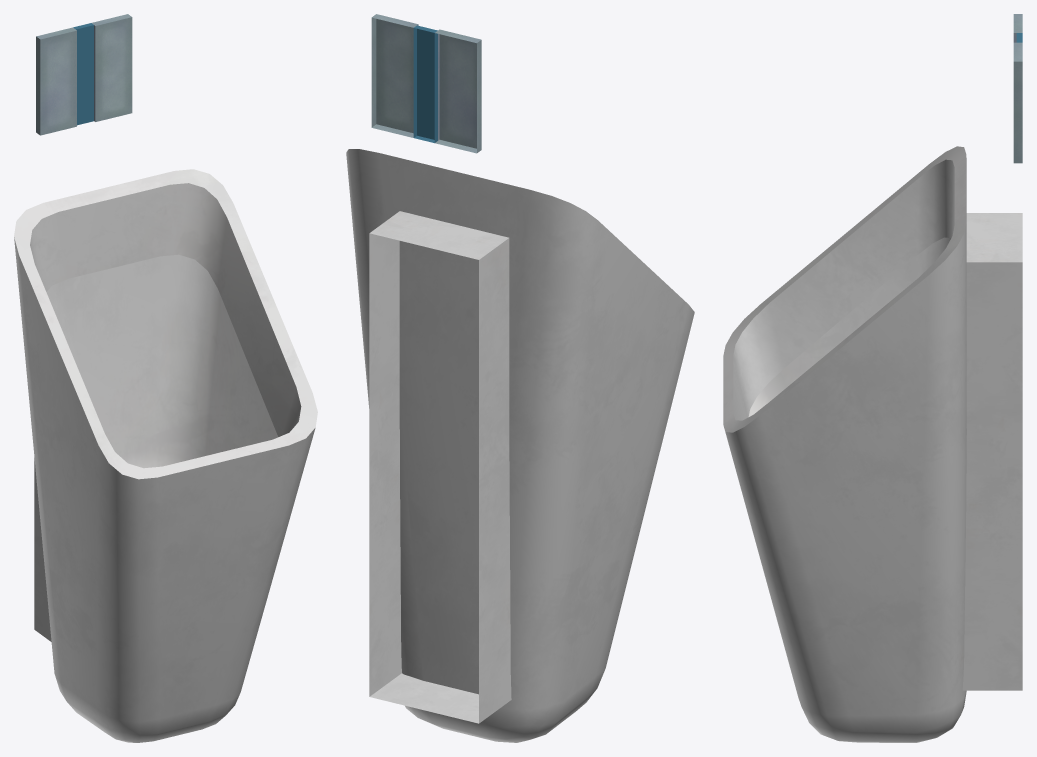
File: Urinal.FBX
3 renders of one model, left to right at view 1: azimuth 30°, elevation 25°; view 2: azimuth 150°, elevation 25°; view 3: azimuth 270°, elevation 25°, orthographic. The views are drawn at different scales.
Visible parts, largest first — view 1: Urinal_LOD0; view 2: Urinal_LOD0; view 3: Urinal_LOD0.
Boxes of the visible parts, x1,y1,x2,y2 form: Urinal_LOD0: (14, 14, 317, 742); Urinal_LOD0: (346, 14, 694, 742); Urinal_LOD0: (723, 14, 1022, 742).
Size of what is drawn, in the model's own units: 35 by 101 by 39.97.
